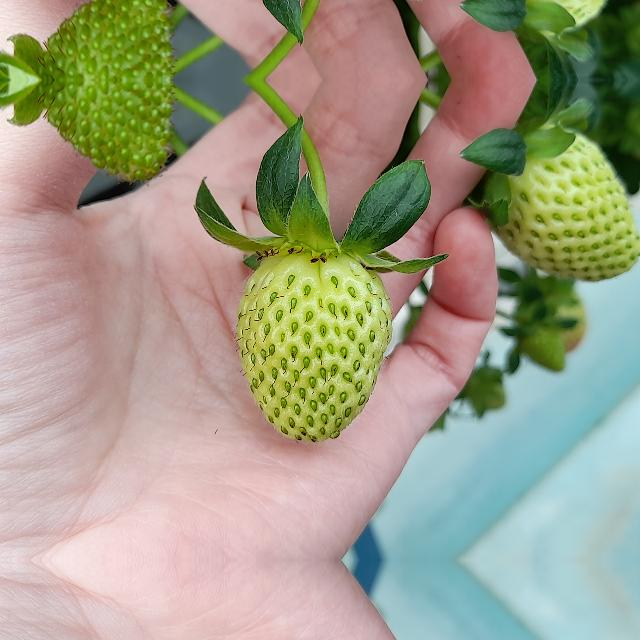Health_25: (235, 251, 392, 443), (481, 120, 639, 280), (32, 80, 175, 186), (31, 0, 174, 80), (481, 0, 639, 39)
